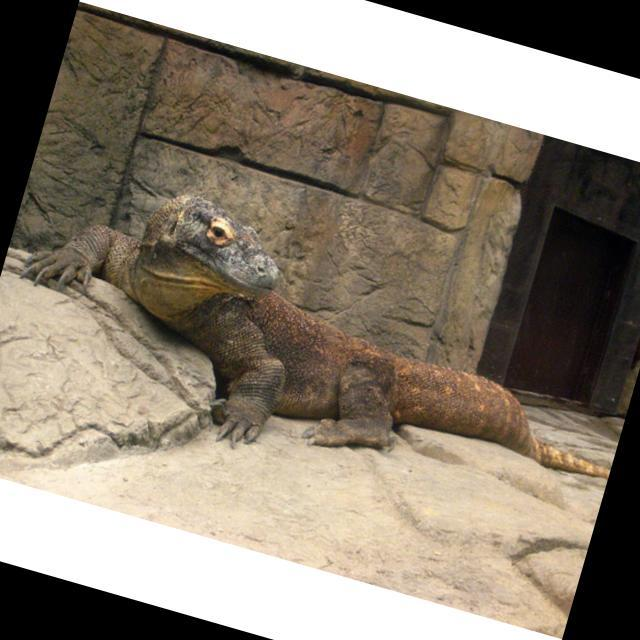KomodoDragon: (0, 150, 640, 541)
